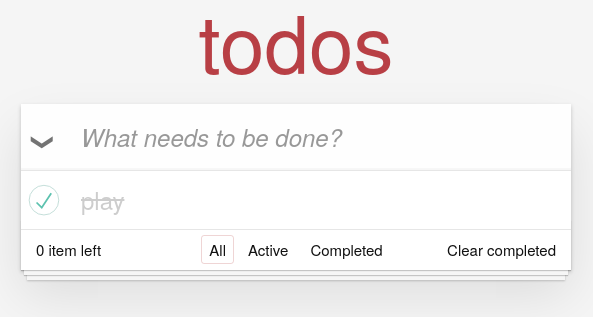
编辑任务 › 修改任务项文本敲回车之后，应该保存修改以及取消编辑状态
The width and height of the screenshot is (593, 317).
Note: 双击任务项文本获得编辑状态
Double-click the label with test id "todo-text" at (103, 199), box [21,171,571,229]
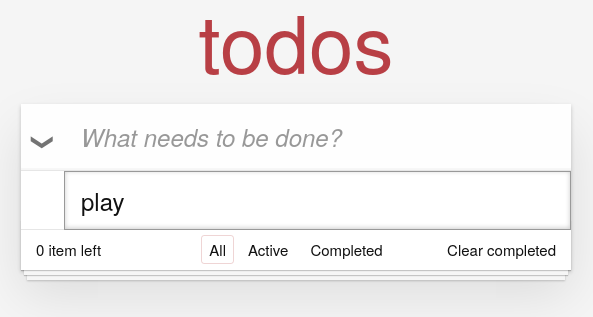
Note: 修改任务项文本 
Replace the text in the field with test id "todo-edit" with "hello". click: (318, 200)
box: [64,171,571,230]
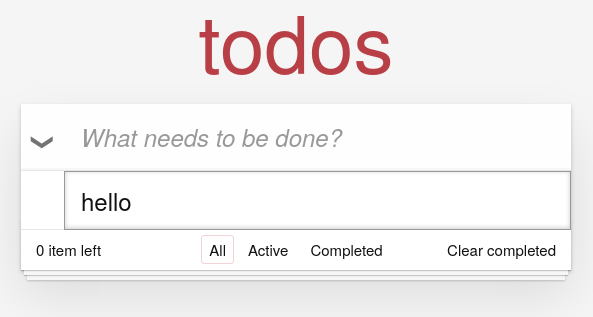
Press Enter in the field with test id "todo-edit", box [64,171,571,230]
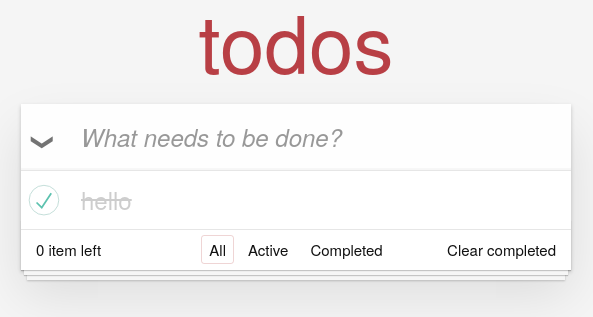
Expected: the label with test id "todo-text" reads "hello", [81,182,132,217]
